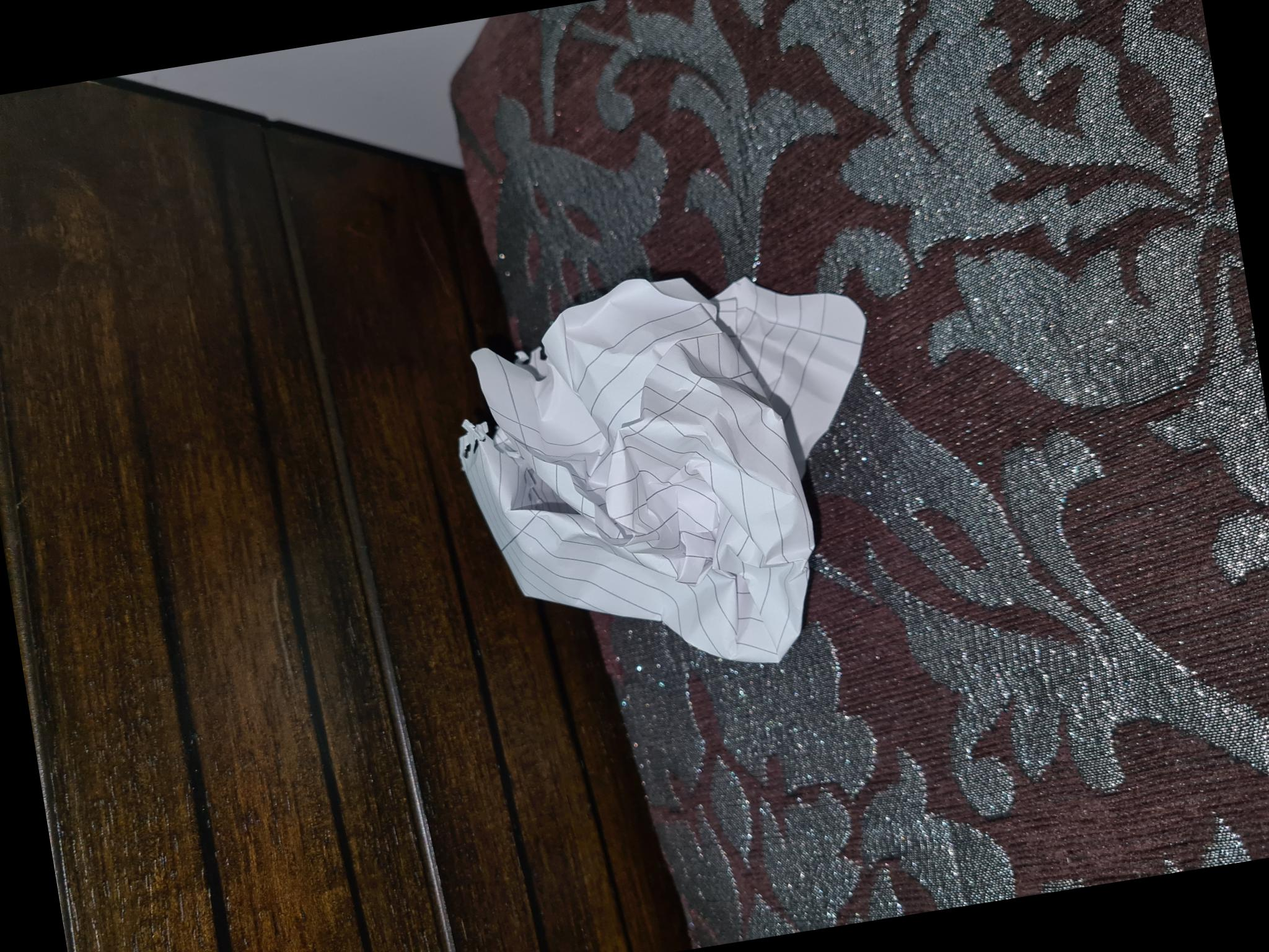Kertas: (317, 483, 700, 888)
